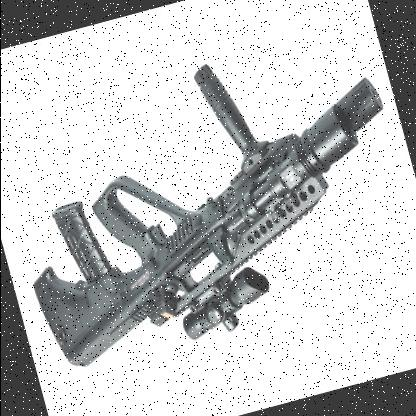rifle: (0, 22, 416, 405)
